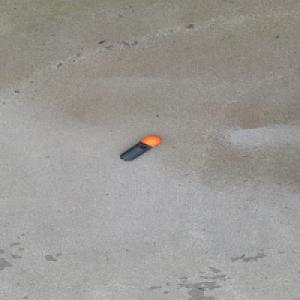PlasticPart: (118, 135, 162, 161)
